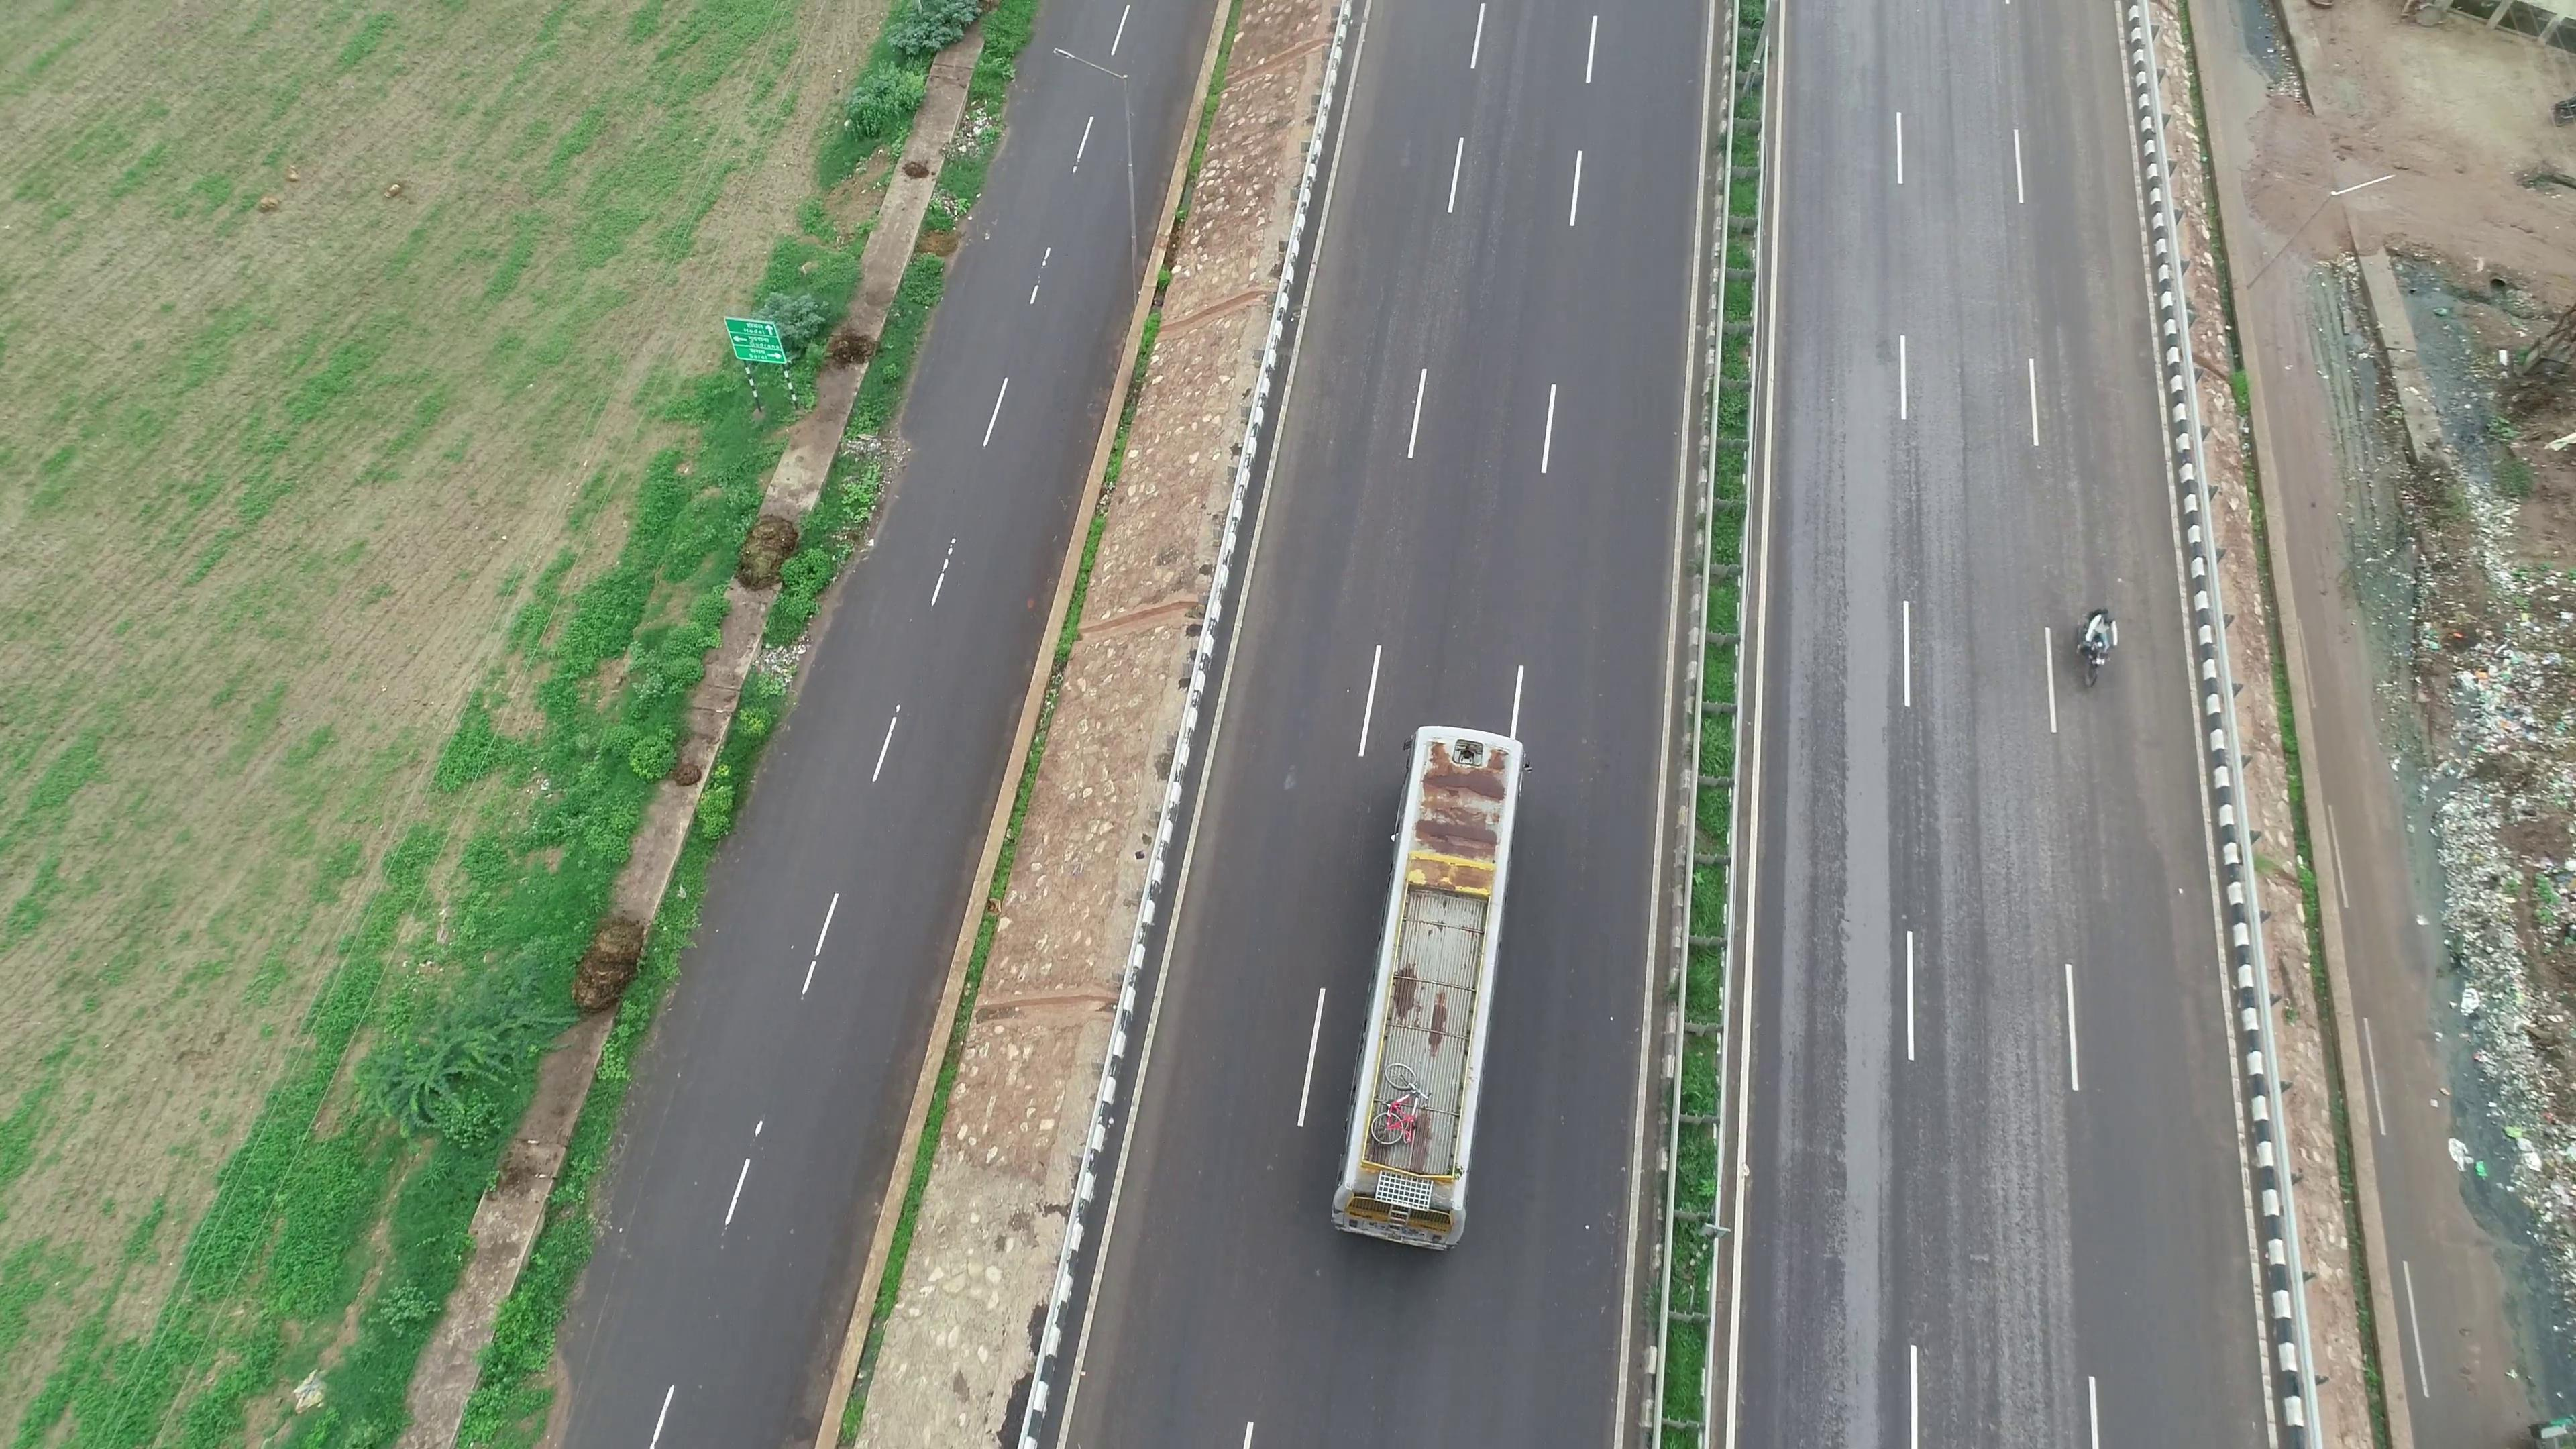Road_side_garbage: (2417, 580, 2576, 1131)
